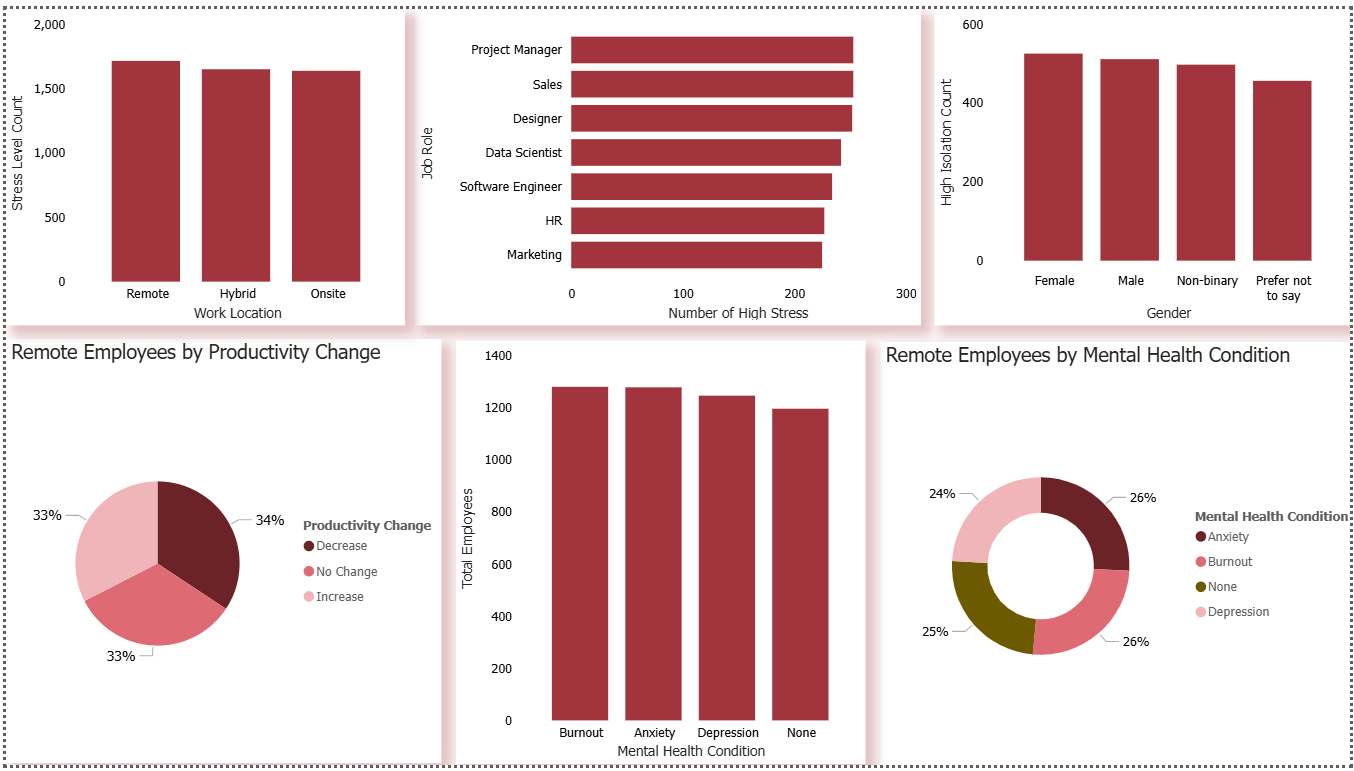

This screenshot's page, from the dashboard's own definition file:
{"tool":"powerbi","page":{"name":"Page 2","canvas":[1280,720],"ordinal":1},"visuals":[{"type":"barChart","title":"High Stress by Job Role","fields":{"Category":["Impact_of_Remote_Work_on_Mental_Health.Job_Role"],"Y":["DAX Measures.Number of High Stress"]},"box":[390.7,0,481.5,301.3],"z":0},{"type":"columnChart","fields":{"Category":["Impact_of_Remote_Work_on_Mental_Health.Gender"],"Y":["DAX Measures.High Isolation Count"]},"box":[884.3,0,395.2,301.3],"z":1000},{"type":"pieChart","title":"Remote Employees by Productivity Change","fields":{"Y":["DAX Measures.Remote Employees"],"Category":["Impact_of_Remote_Work_on_Mental_Health.Productivity_Change"]},"box":[0,315,414.9,404.3],"z":2000},{"type":"lineStackedColumnComboChart","fields":{"Category":["Impact_of_Remote_Work_on_Mental_Health.Work_Location"],"Y":["CountNonNull(Impact_of_Remote_Work_on_Mental_Health.Stress_Level)"]},"box":[0,0,380.1,301.3],"z":3000},{"type":"donutChart","title":"Remote Employees by Mental Health Condition","fields":{"Category":["Impact_of_Remote_Work_on_Mental_Health.Mental_Health_Condition"],"Y":["DAX Measures.Remote Employees"]},"box":[833,317,447.4,403.5],"z":4000},{"type":"columnChart","fields":{"Category":["Impact_of_Remote_Work_on_Mental_Health.Mental_Health_Condition"],"Y":["DAX Measures.Total Employees"]},"box":[428.2,315.6,389.7,403.5],"z":5000}]}

Visuals, with their boxes in screenshot pixels (x1, y1, x2, y2), scaled from the page's 1280x720 canvas onto the 1354x771 screenshot:
"High Stress by Job Role" barChart: box(413, 0, 923, 323)
columnChart - Impact_of_Remote_Work_on_Mental_Health.Gender x DAX Measures.High Isolation Count: box(935, 0, 1353, 323)
"Remote Employees by Productivity Change" pieChart: box(0, 337, 439, 770)
lineStackedColumnComboChart - Impact_of_Remote_Work_on_Mental_Health.Work_Location x CountNonNull(Impact_of_Remote_Work_on_Mental_Health.Stress_Level): box(0, 0, 402, 323)
"Remote Employees by Mental Health Condition" donutChart: box(881, 339, 1353, 770)
columnChart - Impact_of_Remote_Work_on_Mental_Health.Mental_Health_Condition x DAX Measures.Total Employees: box(453, 338, 865, 770)
